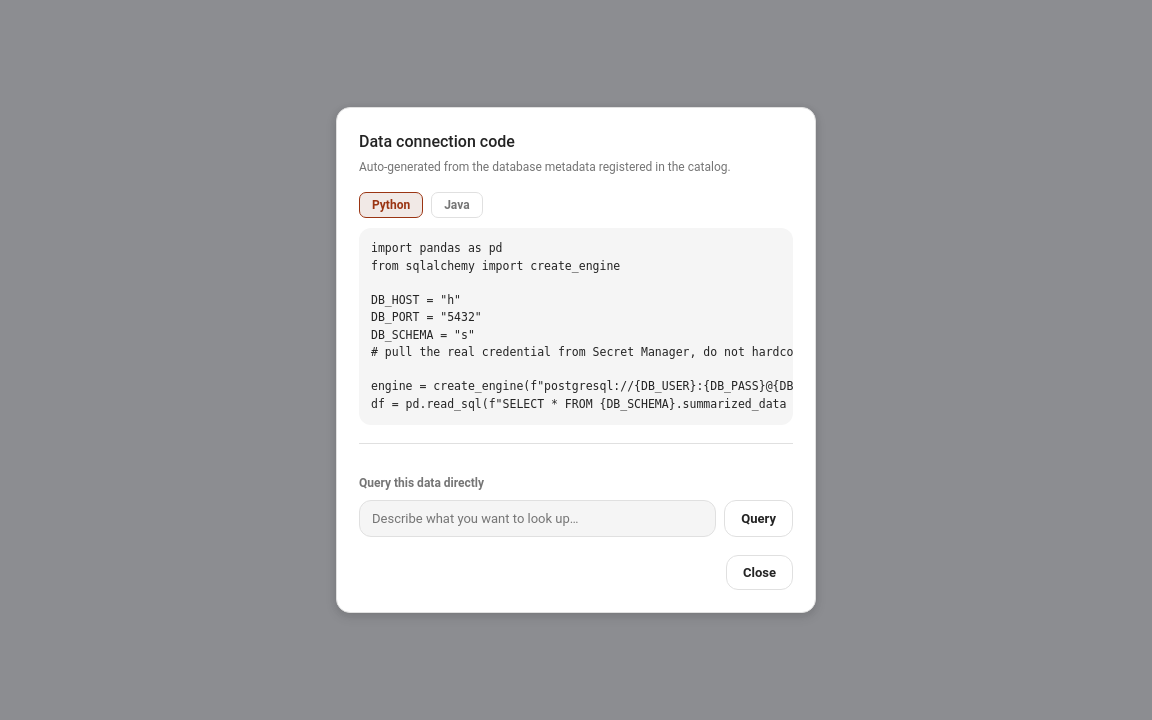
Test: ConnectionCodeDialog › shows the empty-result message when nothing matches
This screenshot has width=1152, height=720.
Type "weather?" into the field with placeholder "Describe what you want to look up…" at (538, 518), box x1=359 y1=500 x2=716 y2=537
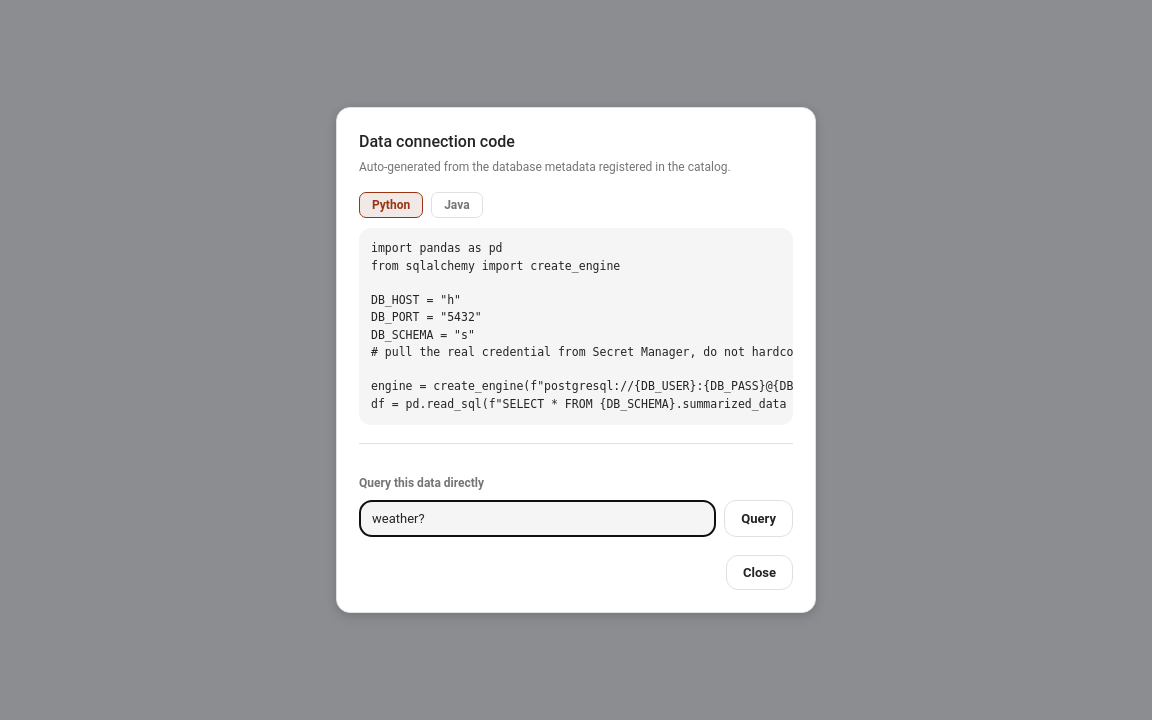
Click the button "Query" at (759, 518), box x1=724 y1=500 x2=793 y2=537
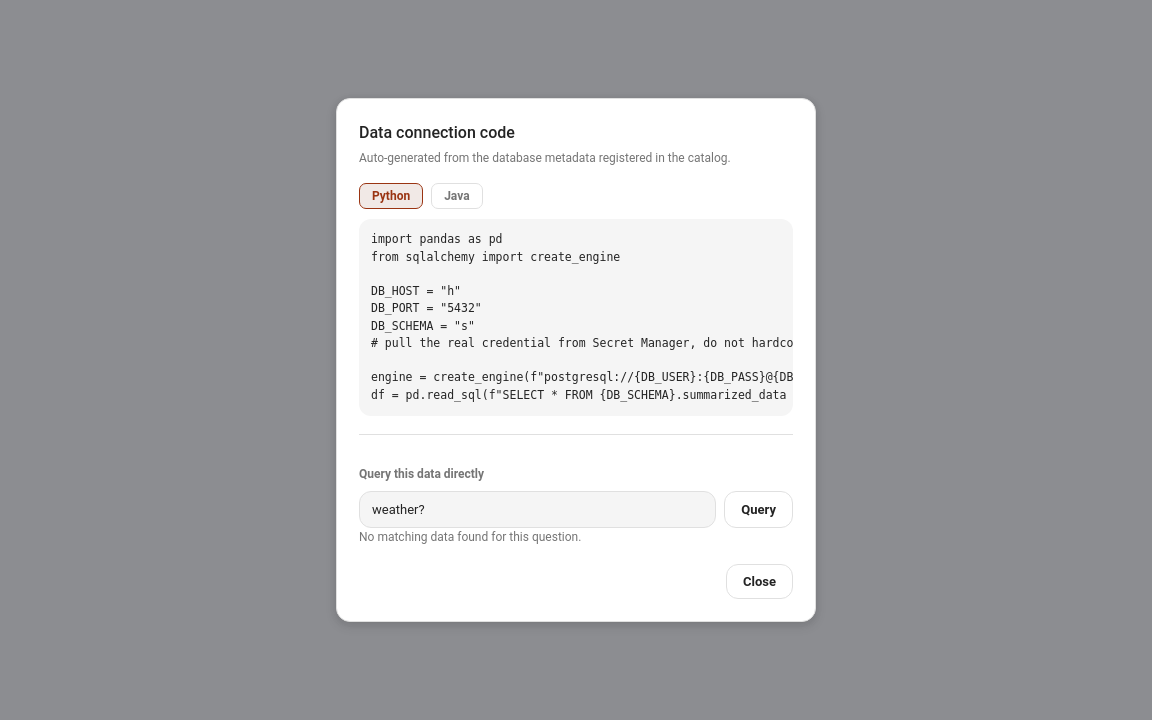
Check: the text "No matching data found for this question." is shown, box x1=359 y1=530 x2=581 y2=544
